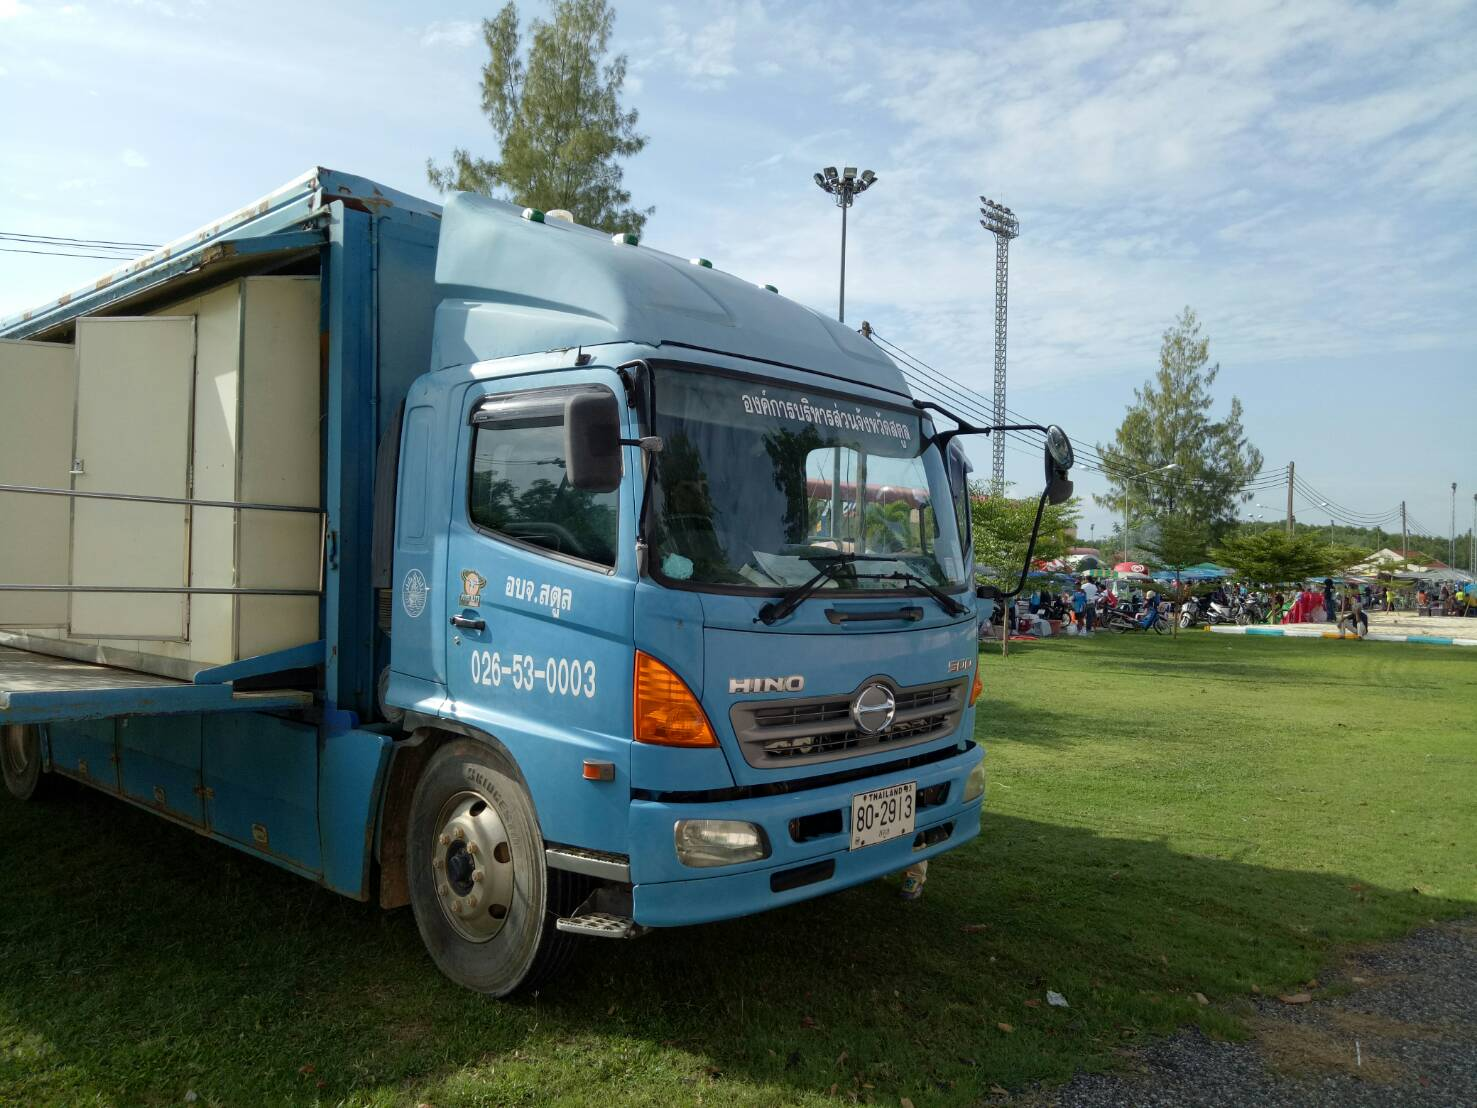truck: (332, 170, 990, 1006)
